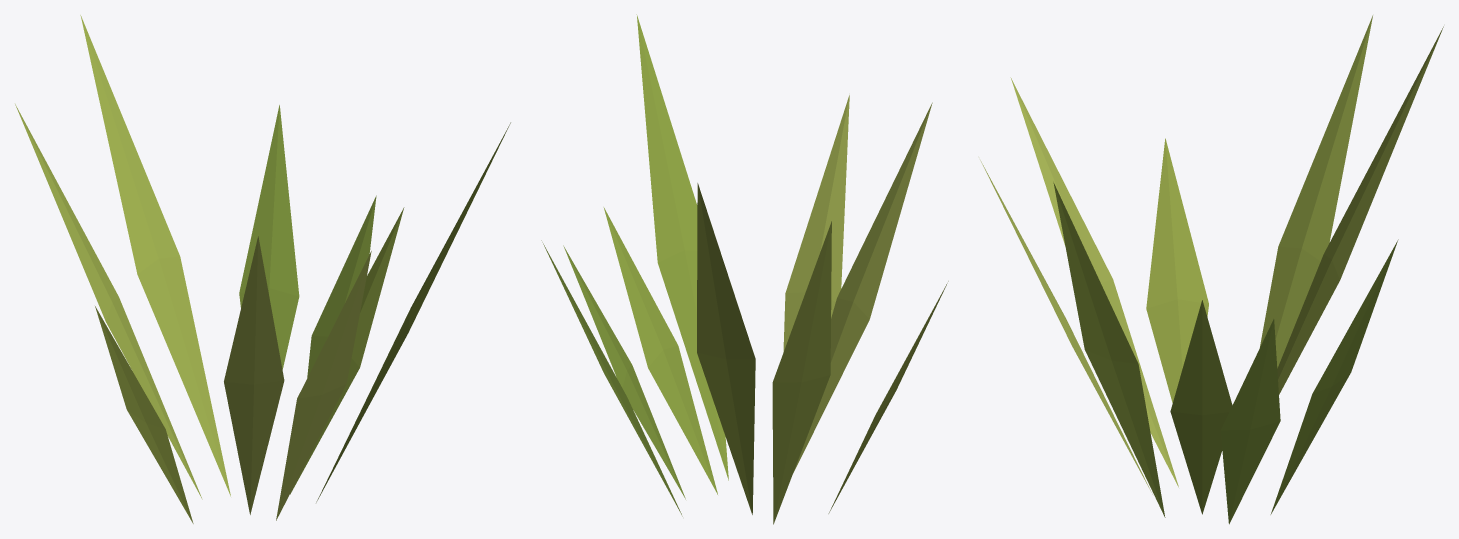
File: Grass_Tall.fbx
3 renders of one model, left to right at view 1: azimuth 30°, elevation 25°; view 2: azimuth 150°, elevation 25°; view 3: azimuth 270°, elevation 25°, orthographic. The views are drawn at different scales.
Parts seen in each view (by area): view 1: Grass_Tall; view 2: Grass_Tall; view 3: Grass_Tall.
Boxes of the visible parts, box(x1,y1,x2,y2) form: Grass_Tall: box(15, 15, 510, 523); Grass_Tall: box(541, 14, 948, 524); Grass_Tall: box(980, 15, 1443, 524).
Bounding box in the file's own units: 76.7 × 84.4 × 80.66.
